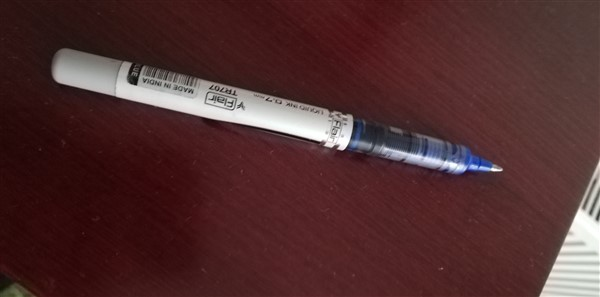pilot kalem: (45, 42, 509, 182)
